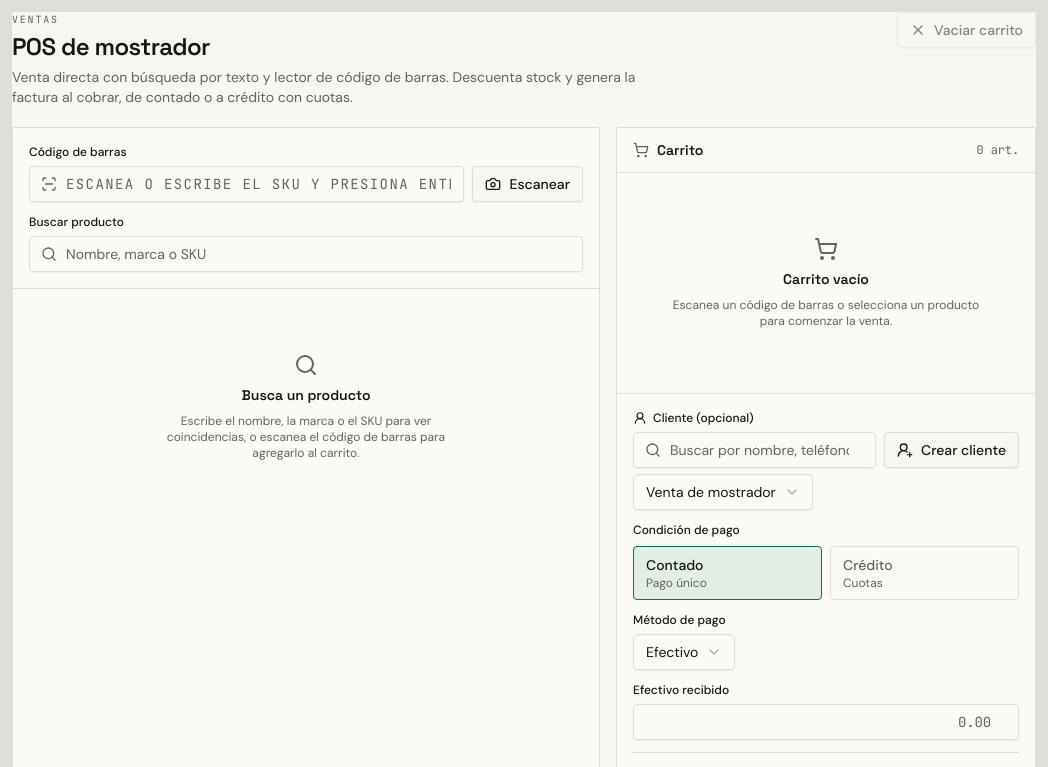
Test case: PosPage product search (cover) › does not show a stale result list for the previous term while the new one loads
// First term resolves and renders its product.
Type "balata" into the field with test id "pos.search_input" at {"x": 306, "y": 254}, box [29,236,583,272]
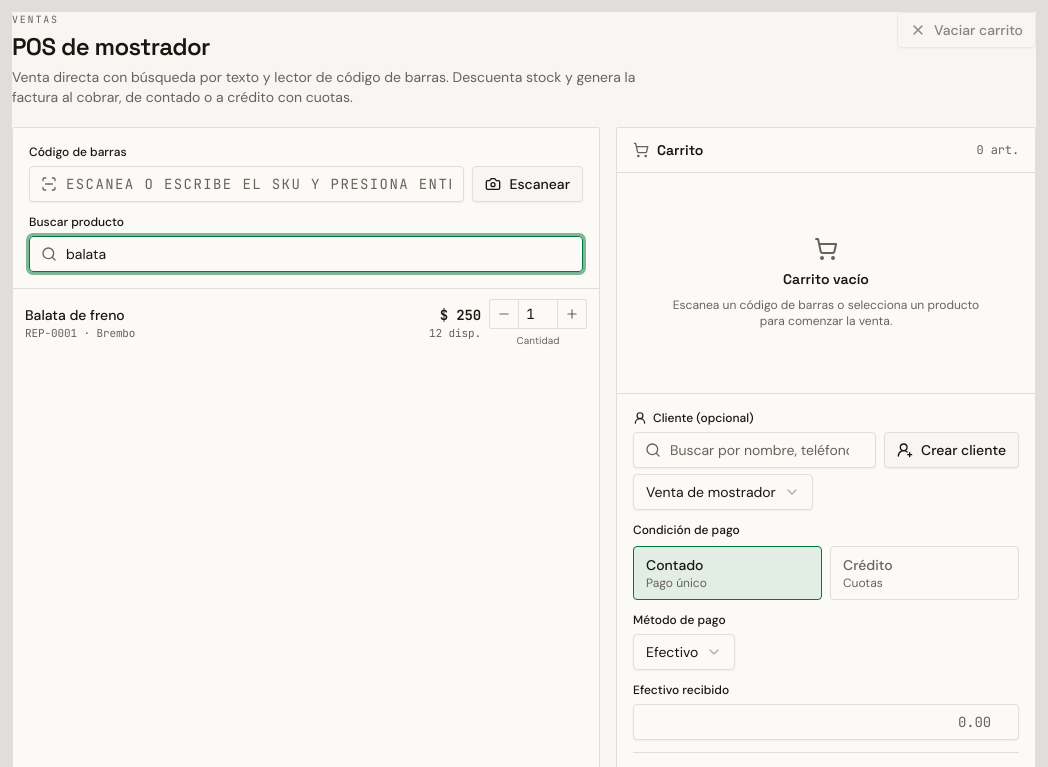
Result: the list with test id "pos.product_list" is shown at [13,289,599,358]
Type "zzz" into the field with test id "pos.search_input" at {"x": 306, "y": 254}, box [29,236,583,272]
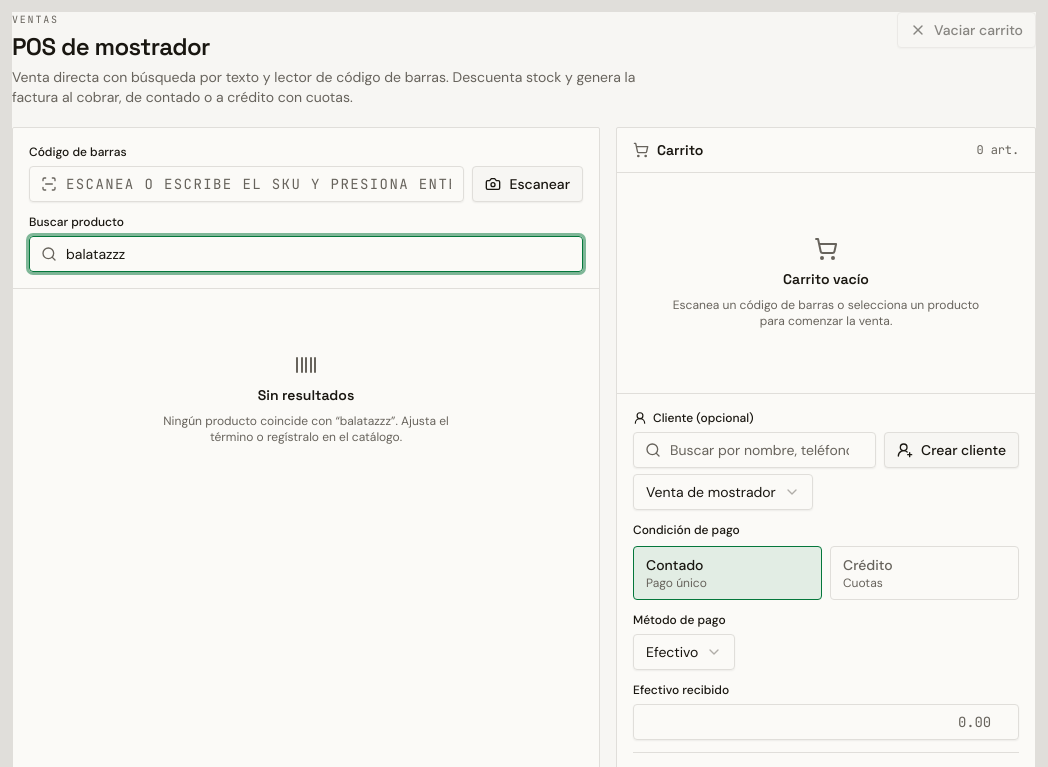
Result: the element with test id "pos.empty_state" is shown at [163,353,449,445]
